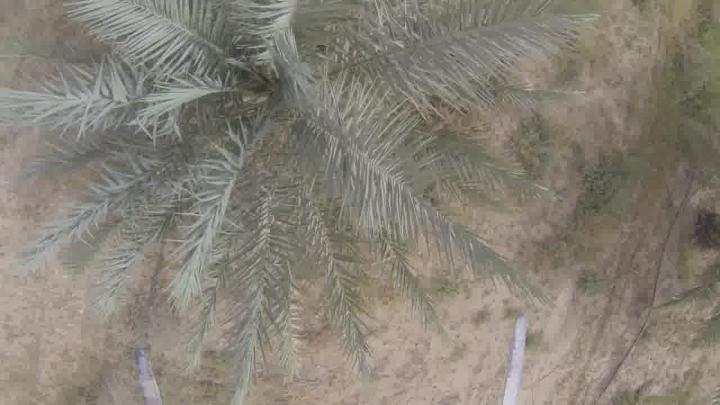Date-Palm-Crown: (96, 0, 420, 262)
